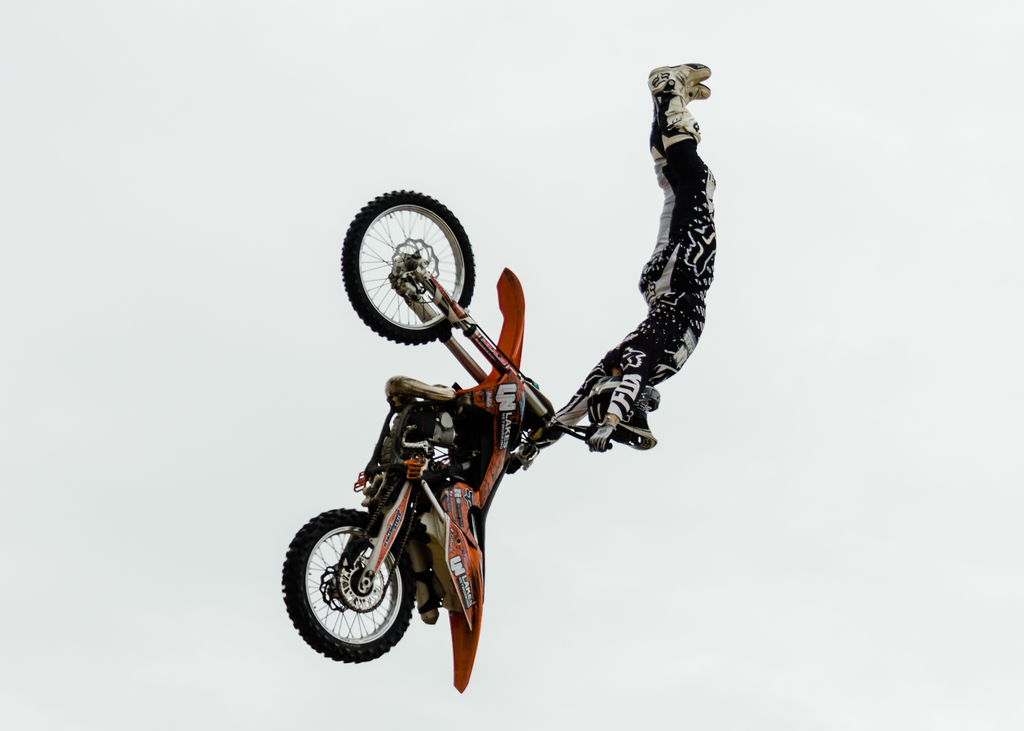Motorcycle: (289, 329, 609, 698)
